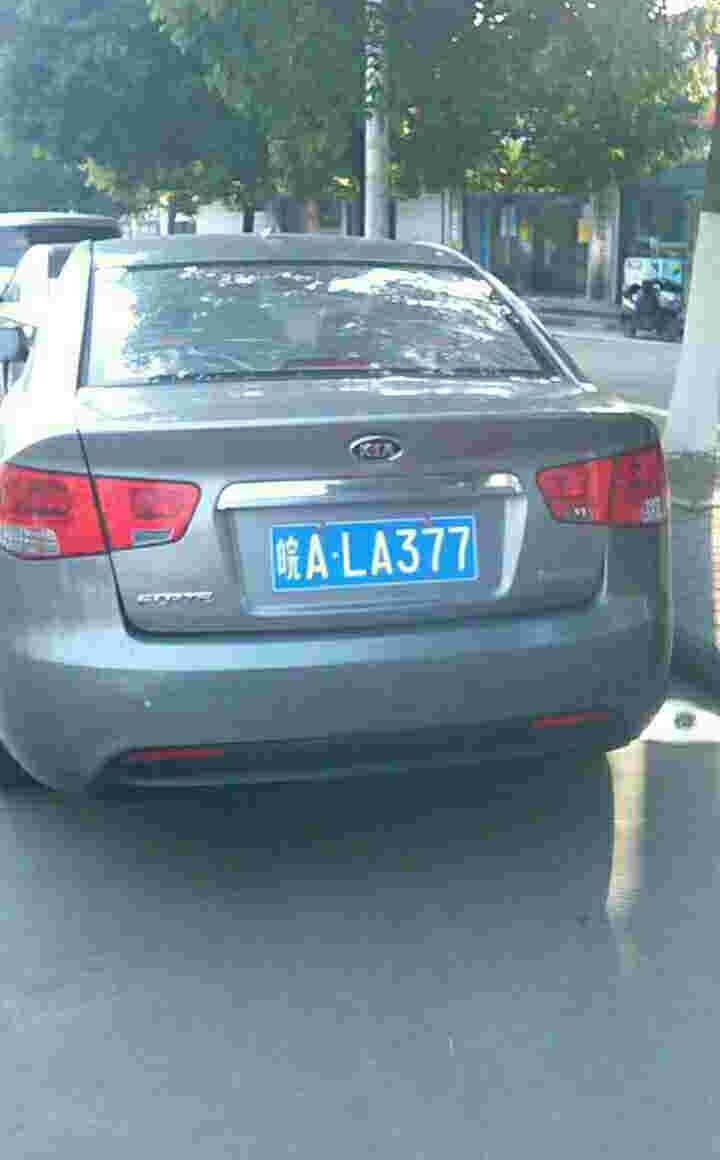plate: (273, 511, 483, 595)
